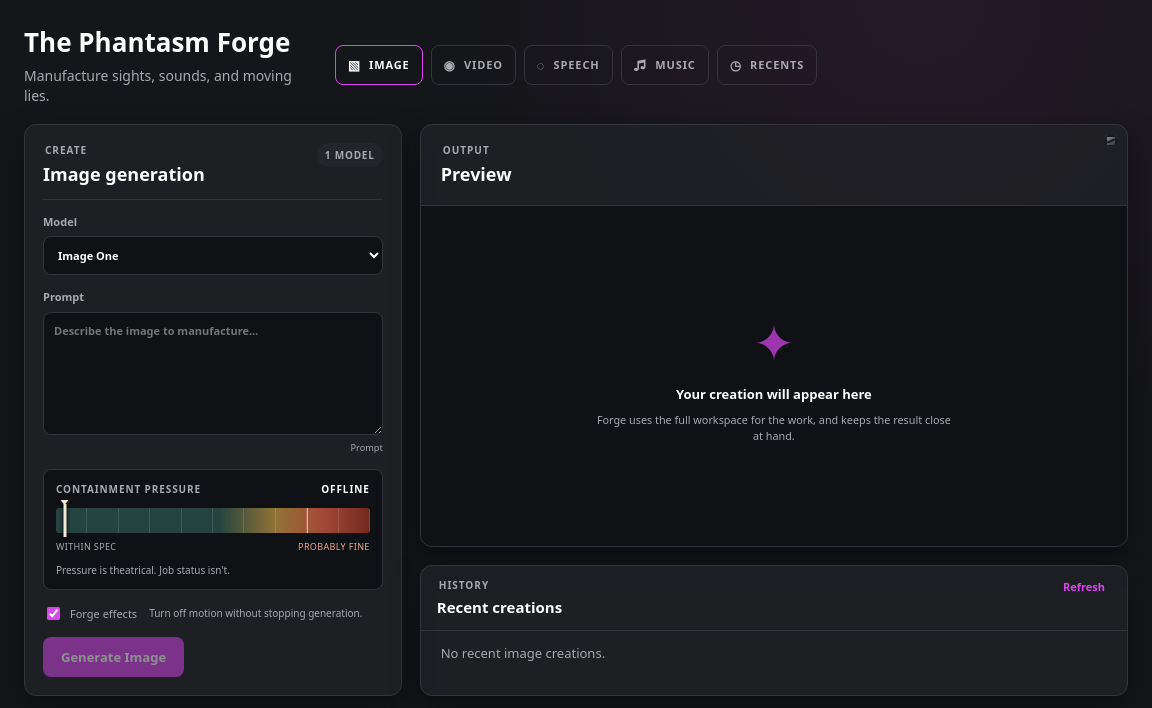
Test: Forge workspace › uses origin for music and speech and keeps unresolved audio in Recents only
The width and height of the screenshot is (1152, 708).
Click the tab "♫ Music" at (665, 65), box [621,45,709,85]
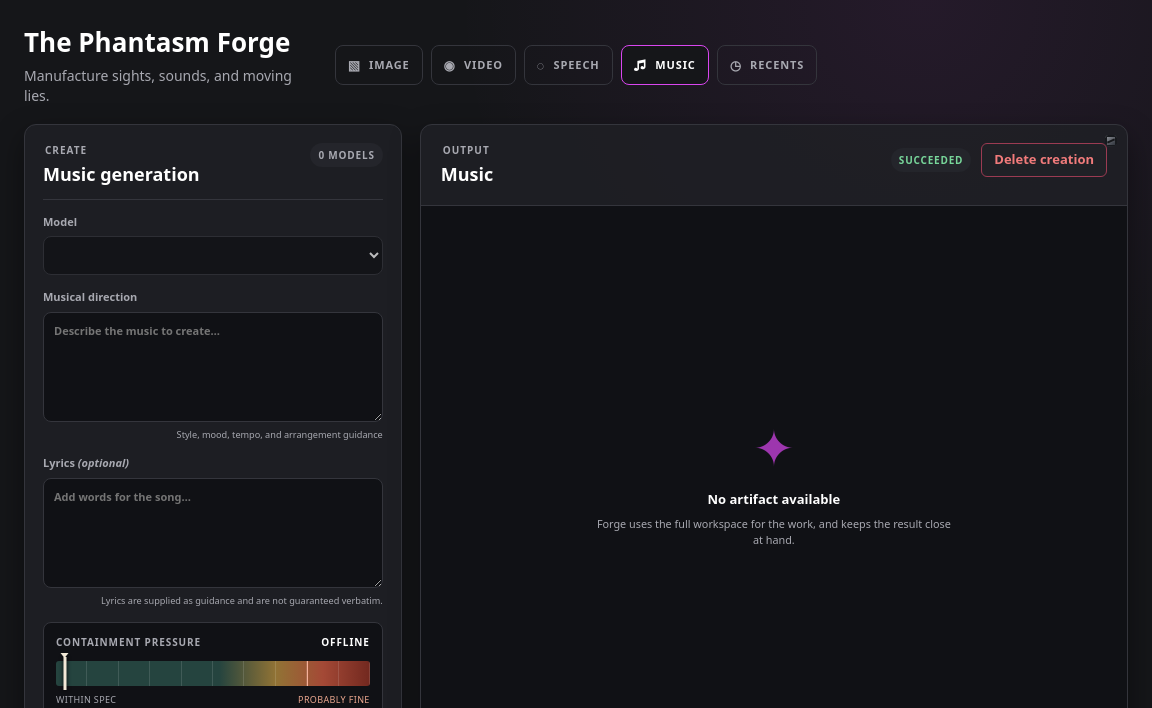
Check: the heading "Music" is shown, box [441,162,493,187]
Click the tab "◌ Speech" at (568, 65), box [524,45,612,85]
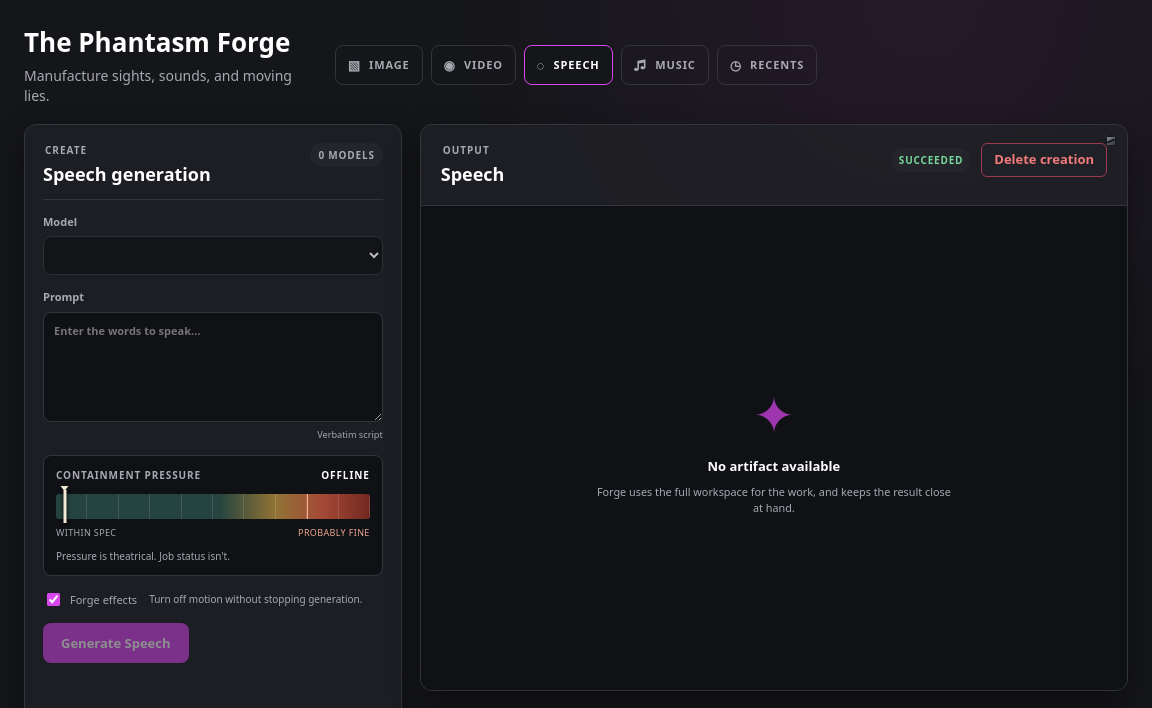
Check: the heading "Speech" is shown, box [441,162,504,187]
Click the tab "◷ Recents" at (767, 65), box [717,45,817,85]
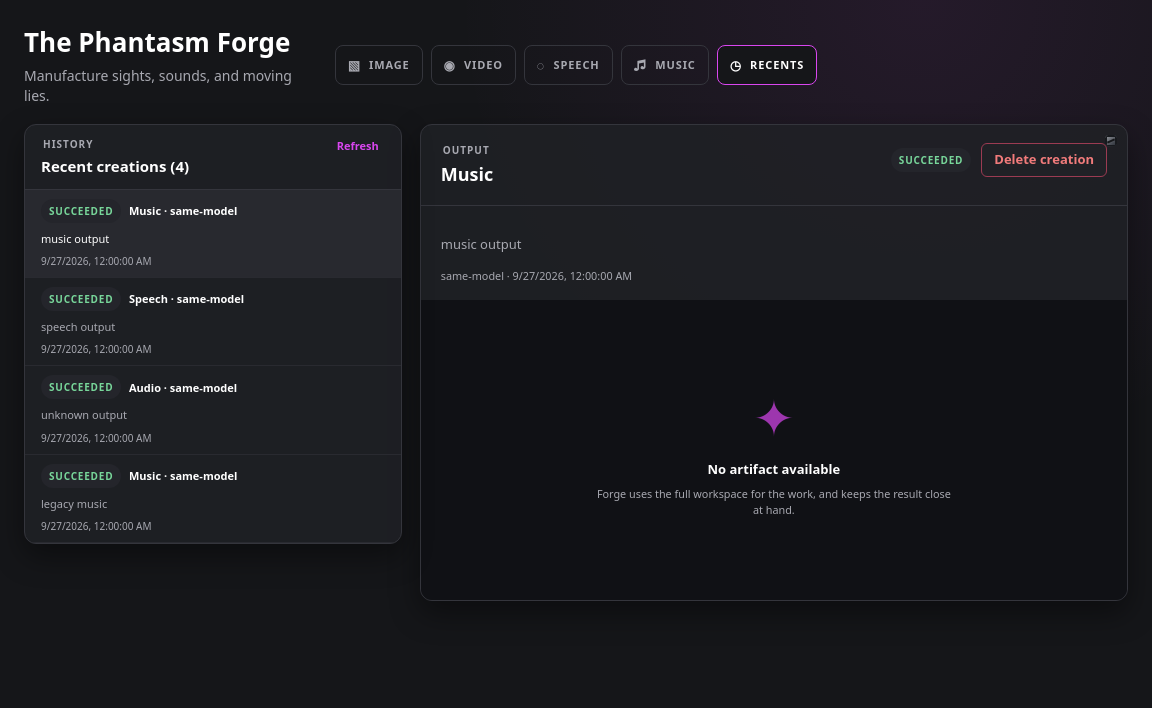
Click the button with aria-label "Audio succeeded: unknown output" at (81, 387), box [25,366,401,455]
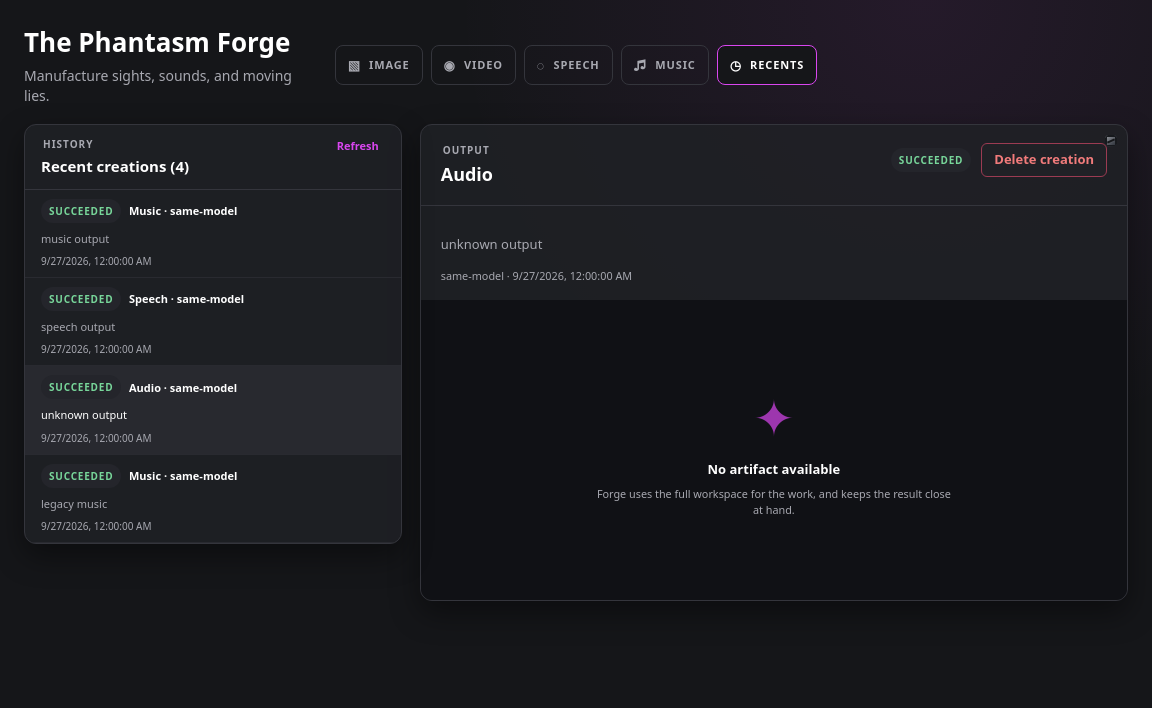
Check: the heading "Audio" is shown, box [441,162,493,187]
